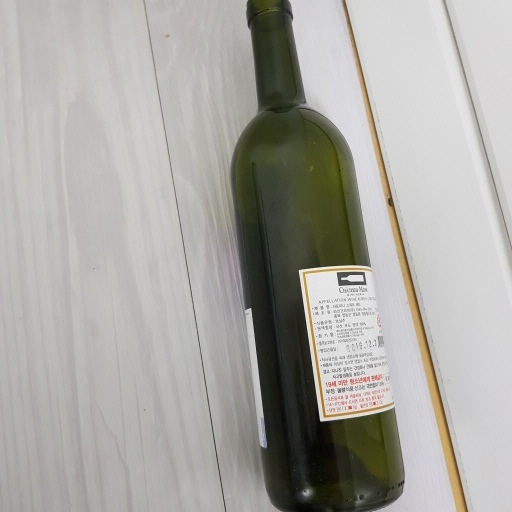Glass_2: (230, 2, 411, 511)
